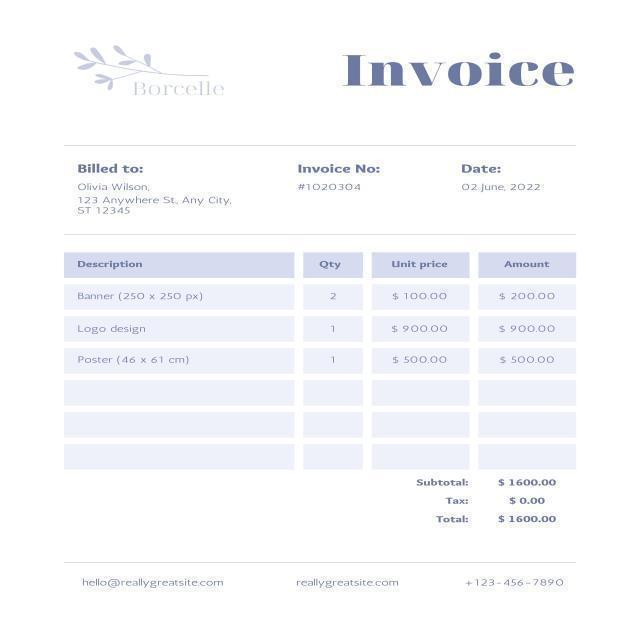paragraph: (67, 149, 239, 237), (341, 46, 593, 104), (61, 36, 254, 105), (411, 474, 574, 538), (288, 159, 404, 206), (448, 153, 554, 203), (287, 564, 409, 607), (459, 571, 590, 601), (81, 572, 236, 597)
table: (69, 249, 584, 408)
